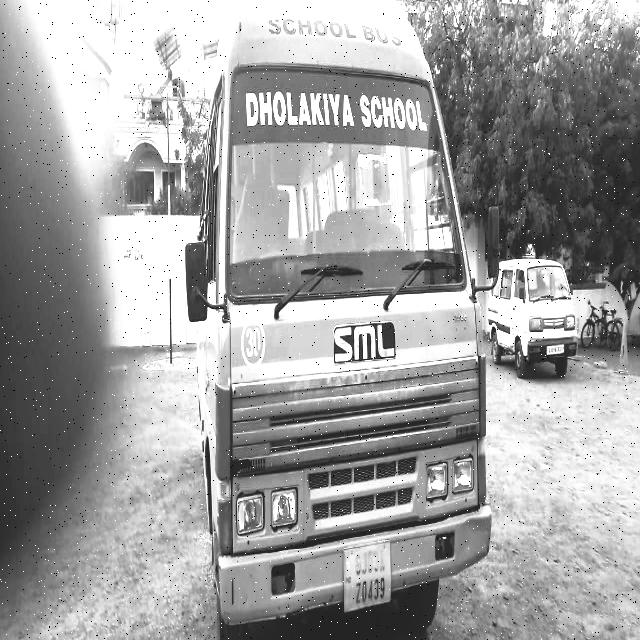Bus: (184, 2, 506, 634)
